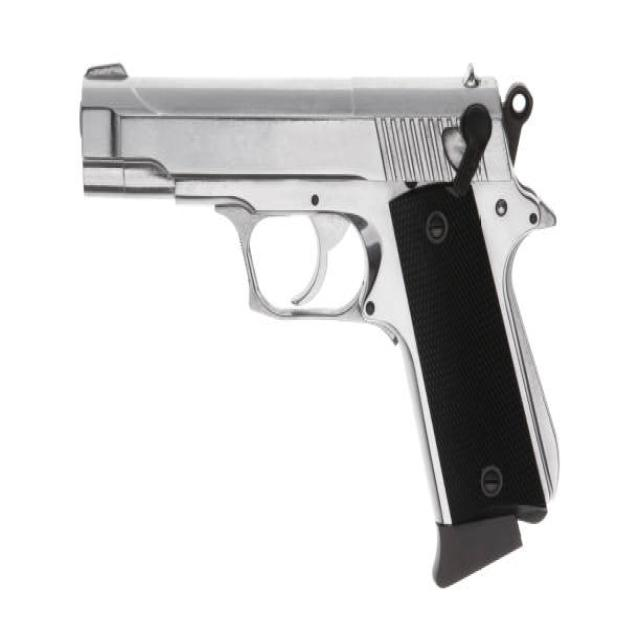pistol: (74, 47, 570, 595)
